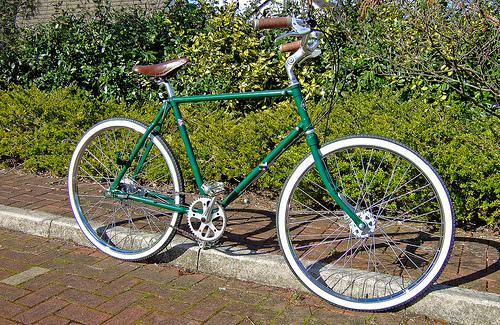car: (68, 17, 458, 315)
